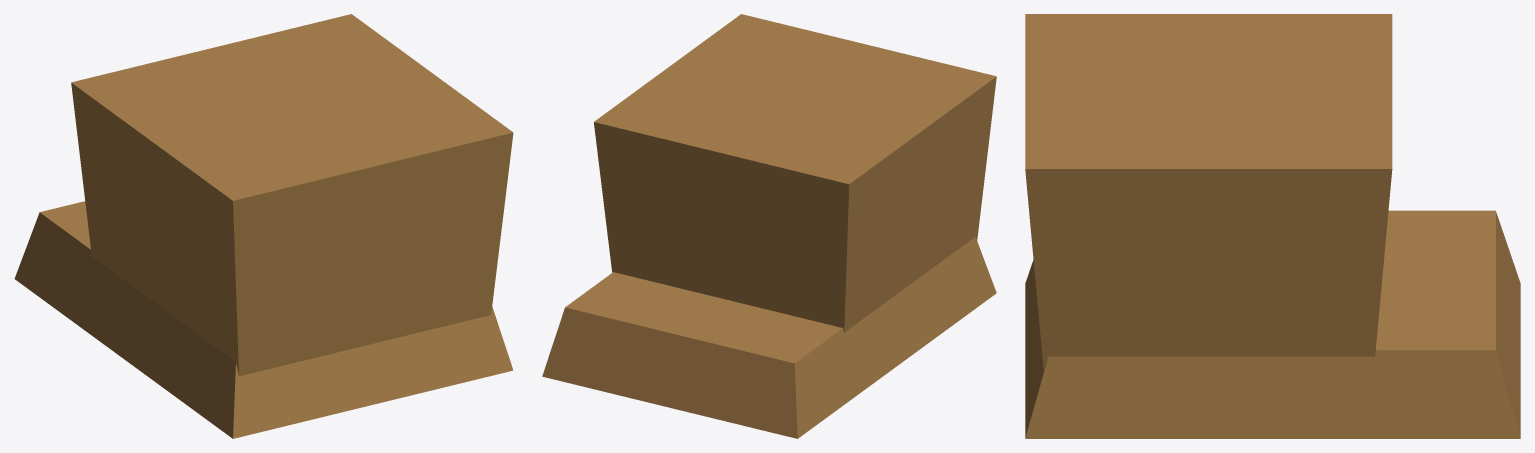
File: animal_dryad_basic_leg.obj
The picture shows the model from 3 angles, left to right: view 1: azimuth 30°, elevation 25°; view 2: azimuth 150°, elevation 25°; view 3: azimuth 270°, elevation 25°; orthographic projection. The views are drawn at different scales.
Visible parts, largest first — view 1: animal_dryad_basic_leg; view 2: animal_dryad_basic_leg; view 3: animal_dryad_basic_leg.
Part boxes in pixels (left/top/right/bottom): animal_dryad_basic_leg: left=14, top=14, right=513, bottom=438; animal_dryad_basic_leg: left=542, top=14, right=996, bottom=438; animal_dryad_basic_leg: left=1025, top=14, right=1520, bottom=438.
Size of the model in its own units: 0.1032 by 0.0837 by 0.1393.
